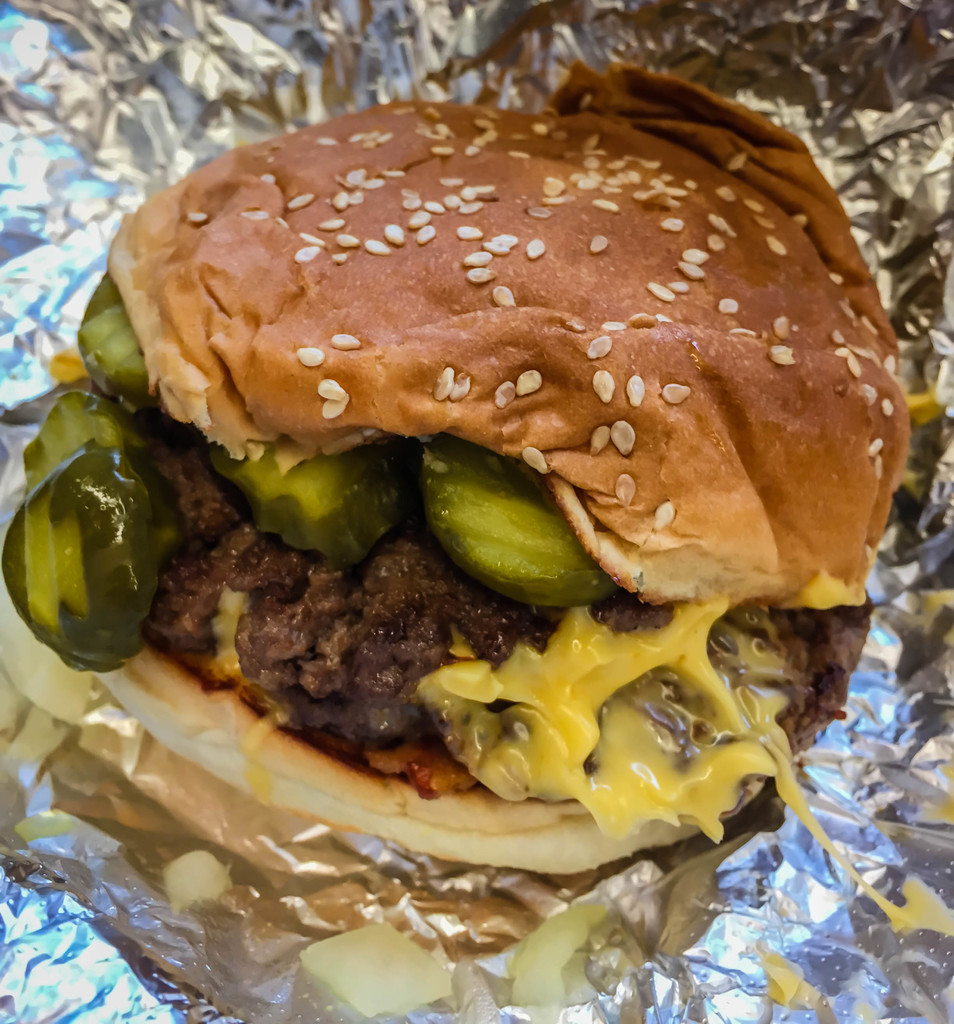Hamburger: (0, 65, 913, 880), (0, 68, 912, 876)
